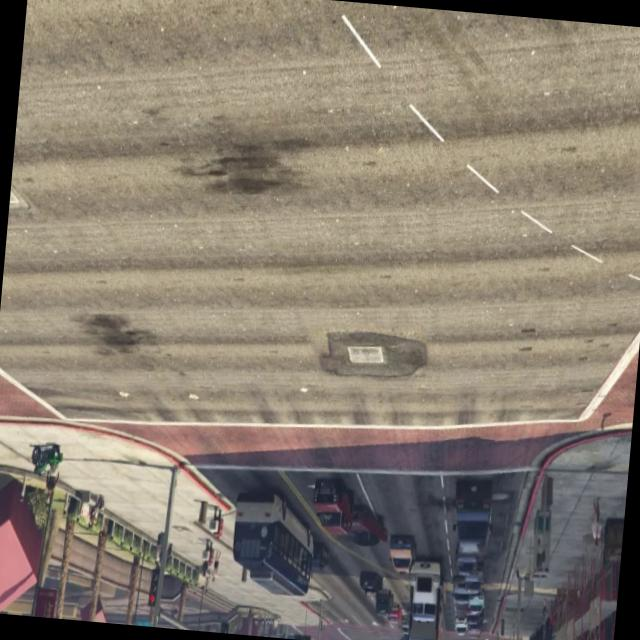Red-Signal: (144, 556, 162, 612), (216, 616, 232, 634)
